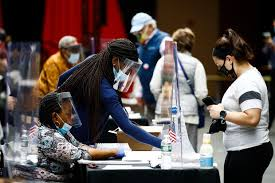mask: (51, 100, 73, 136), (110, 55, 135, 82), (213, 51, 238, 78), (64, 43, 82, 64), (132, 24, 153, 41)
